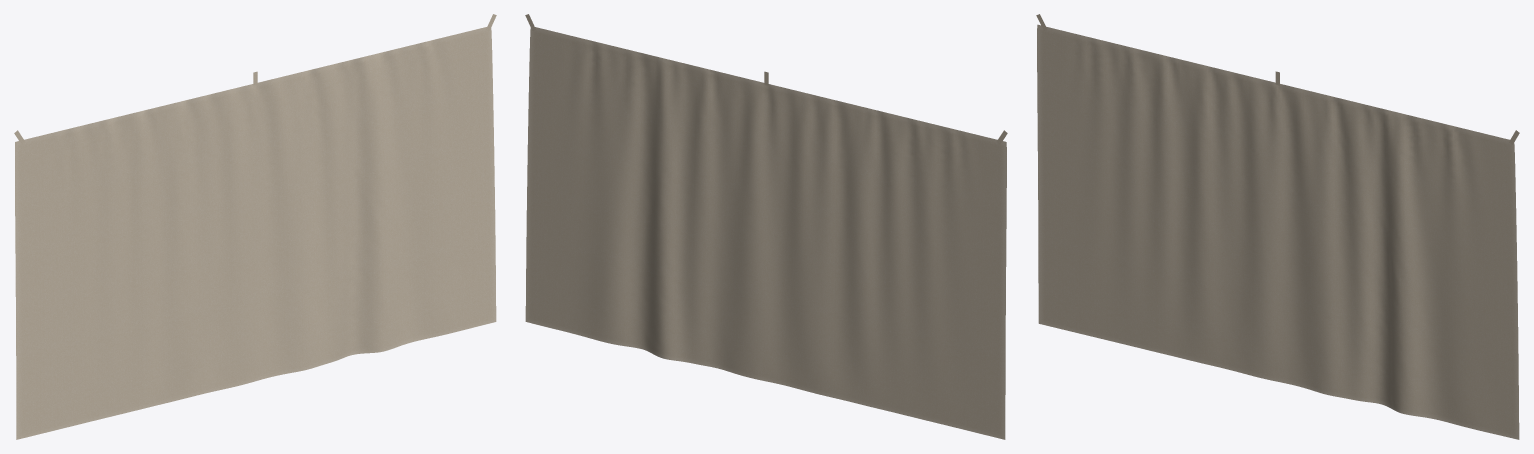
File: MEGA_PACK_Curtain__curtain-230615.glb
3 renders of one model, left to right at view 1: azimuth 30°, elevation 25°; view 2: azimuth 150°, elevation 25°; view 3: azimuth 330°, elevation 25°, orthographic.
Parts seen in each view (by area): view 1: curtain-230615; view 2: curtain-230615; view 3: curtain-230615.
Part boxes in pixels (box(x1,y1,x2,y2)): curtain-230615: box(14, 14, 496, 439); curtain-230615: box(525, 14, 1007, 439); curtain-230615: box(1036, 14, 1519, 439).
Size of the model in its own units: 2.2 by 1.35 by 0.0347.
1 material, 1 textured.
